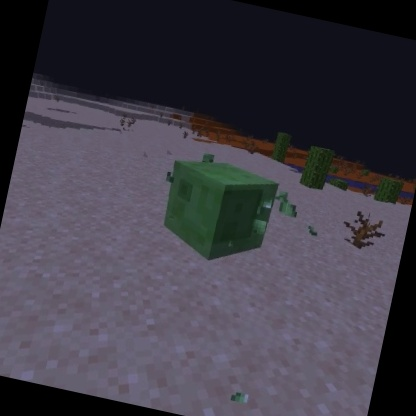slime: (151, 148, 287, 276)
